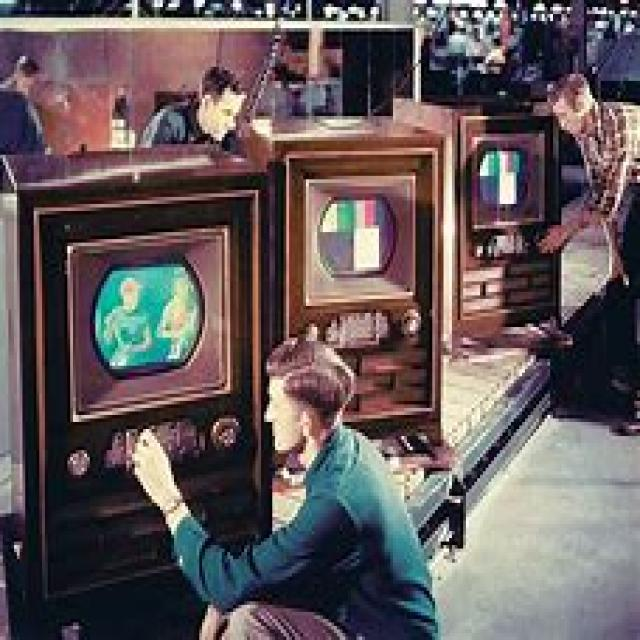tv: (65, 222, 233, 422)
